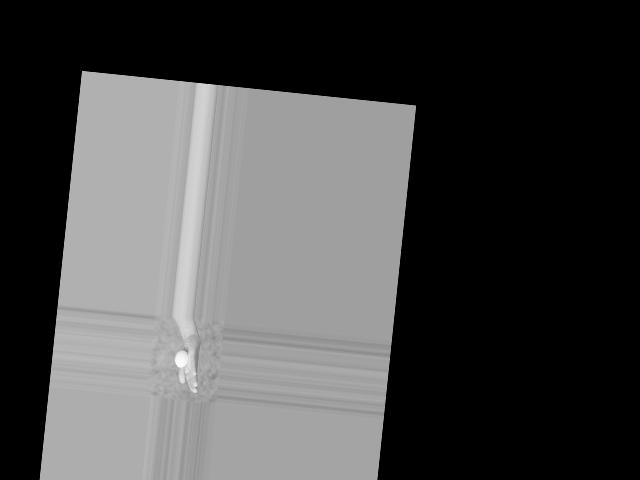egg: (174, 349, 189, 368)
